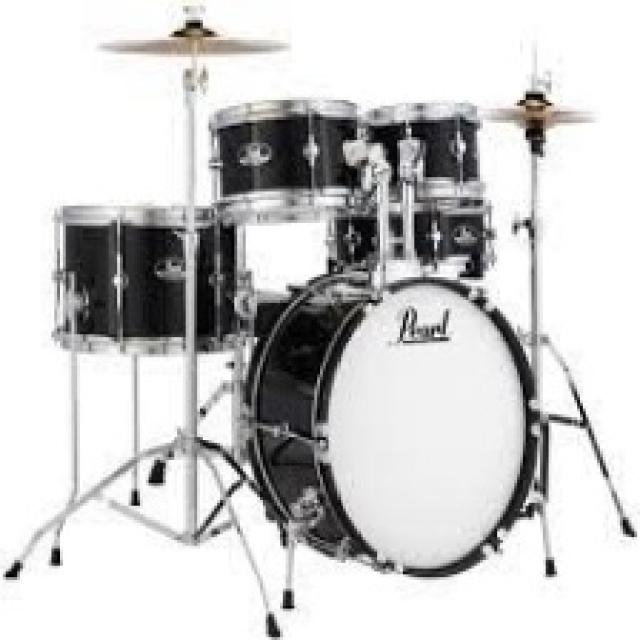drums: (3, 0, 637, 603)
